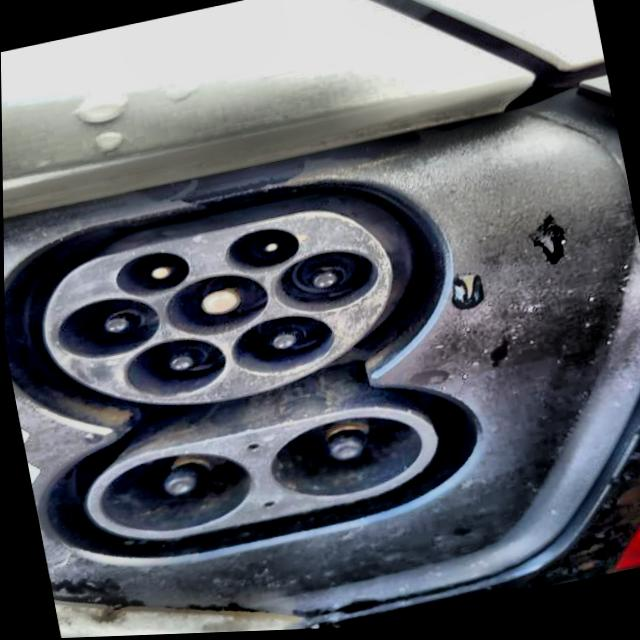inlet: (43, 213, 392, 404)
inlet-above-left: (115, 253, 187, 297)
inlet-above-right: (225, 231, 298, 274)
inlet-below-left: (123, 339, 225, 397)
inlet-below-right: (230, 318, 334, 376)
inlet-center: (166, 275, 267, 337)
inlet-center-left: (58, 298, 158, 357)
inlet-center-right: (273, 253, 377, 315)
